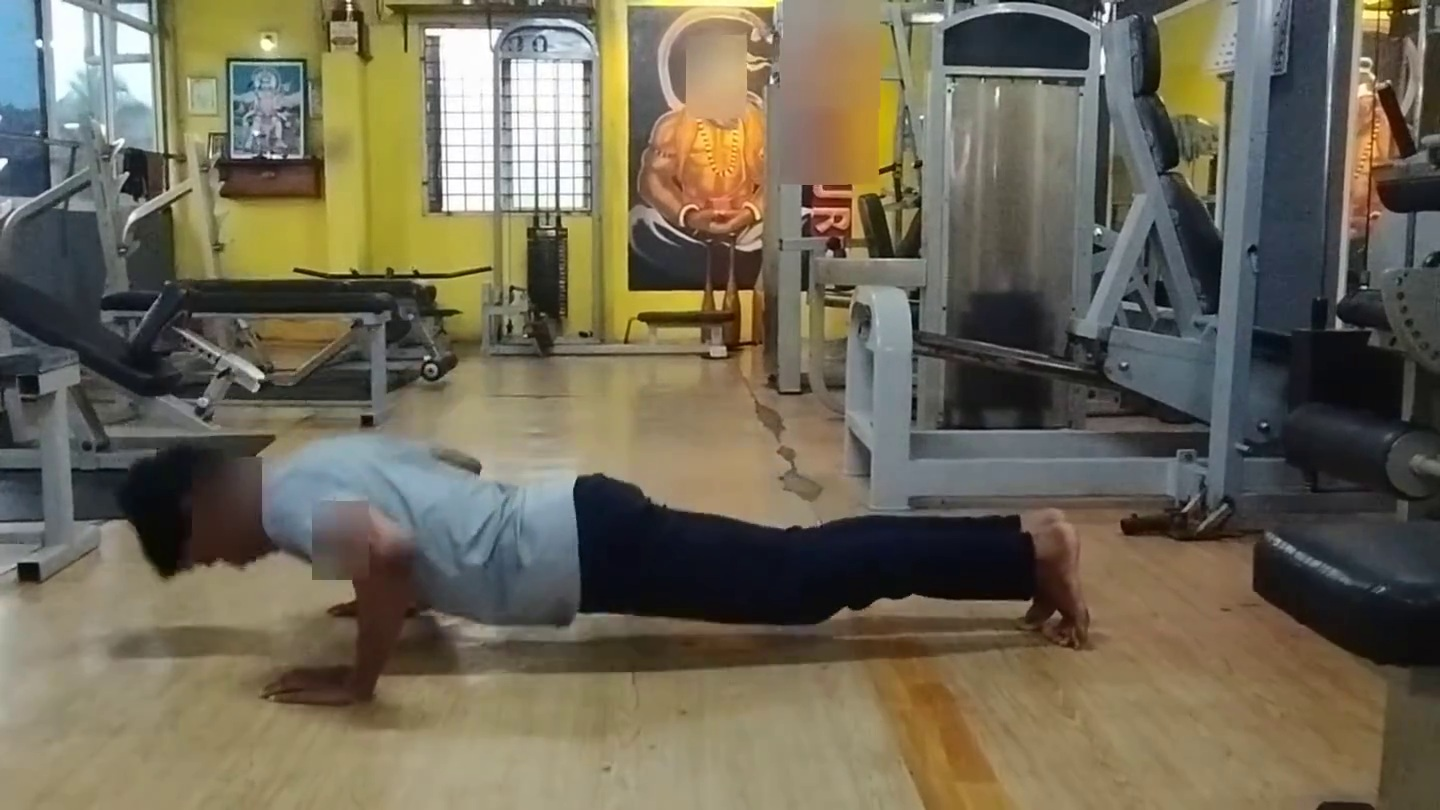push_up: (107, 390, 1170, 777)
